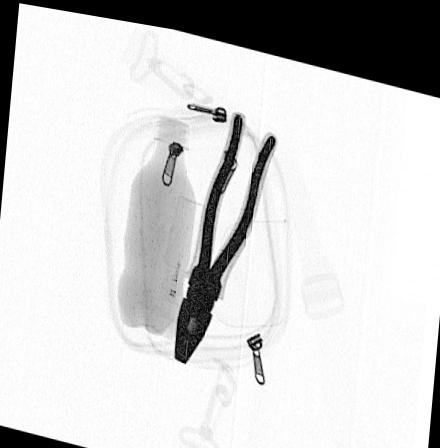Pliers: (168, 101, 281, 364)
